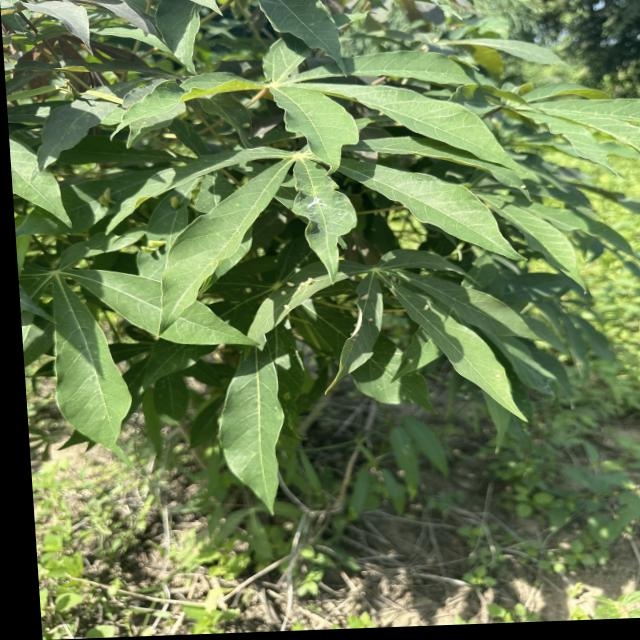Mosca: (130, 220, 182, 256), (237, 82, 296, 113), (162, 167, 199, 208)
